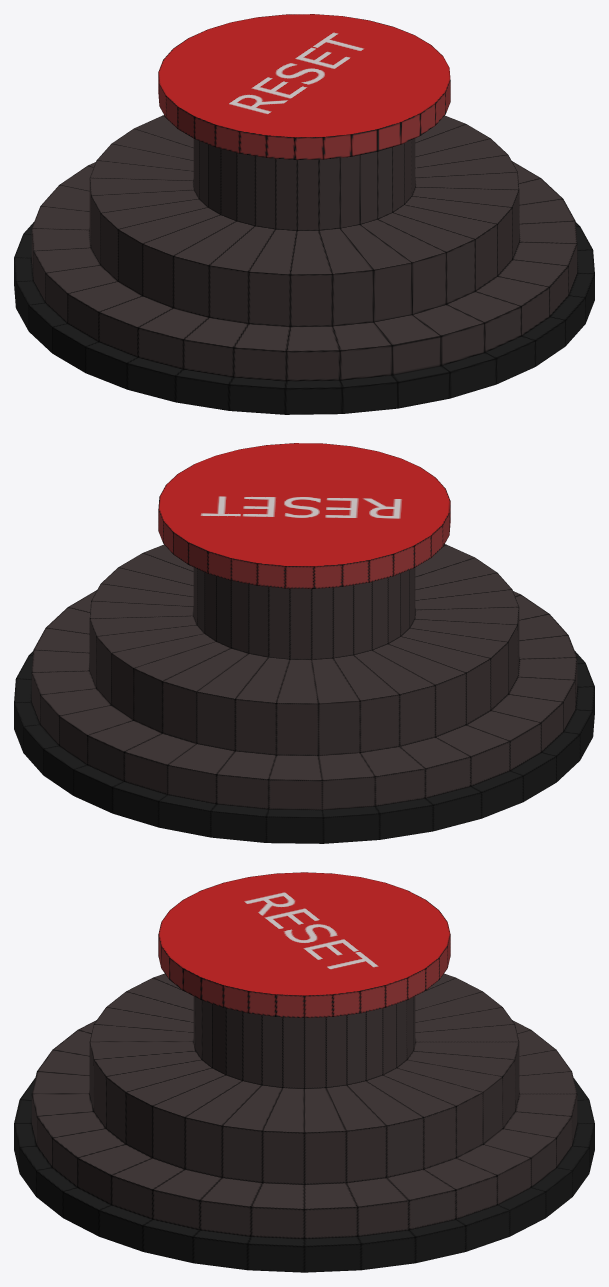
File: ResetButton.fbx
3 views of the same model, one above another, from view 1: azimuth 30°, elevation 25°; view 2: azimuth 150°, elevation 25°; view 3: azimuth 270°, elevation 25° (orthographic).
Visible parts, largest first — view 1: Cylinder; view 2: Cylinder; view 3: Cylinder.
Part boxes in pixels (x1=…): Cylinder: x1=14, y1=14, x2=594, y2=414; Cylinder: x1=14, y1=443, x2=594, y2=843; Cylinder: x1=14, y1=872, x2=594, y2=1272.
Bounding box in the file's own units: 200 × 81.98 × 200.
